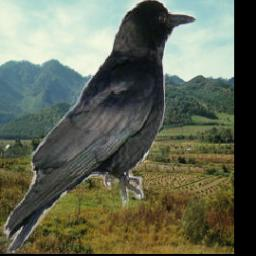Crow: (4, 0, 199, 254)
